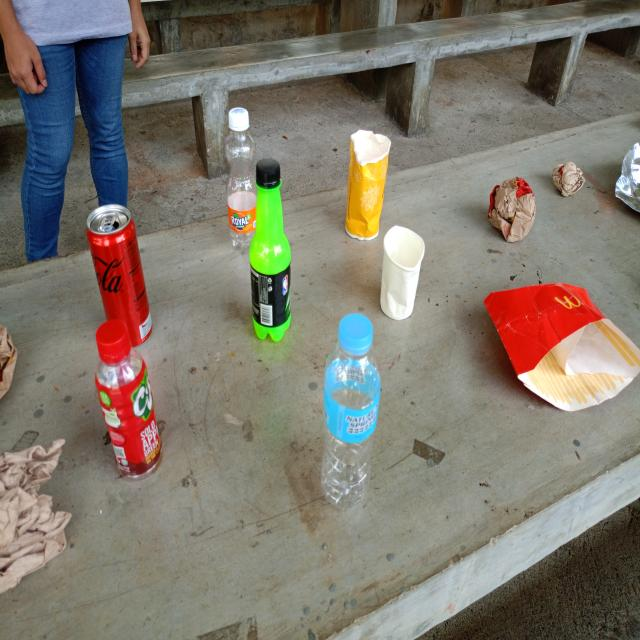Anorganik: (319, 312, 383, 515), (94, 317, 166, 481), (84, 204, 155, 351), (247, 153, 293, 347), (222, 102, 259, 252)
Organik: (483, 280, 640, 415), (344, 124, 394, 244), (378, 222, 429, 325), (488, 174, 538, 244), (548, 158, 589, 201)
